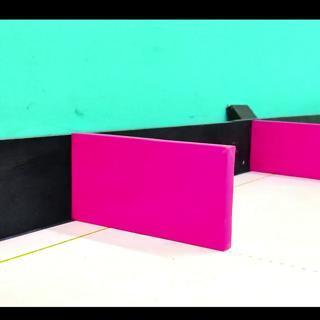xparking: (79, 150, 230, 248), (258, 126, 317, 178)
